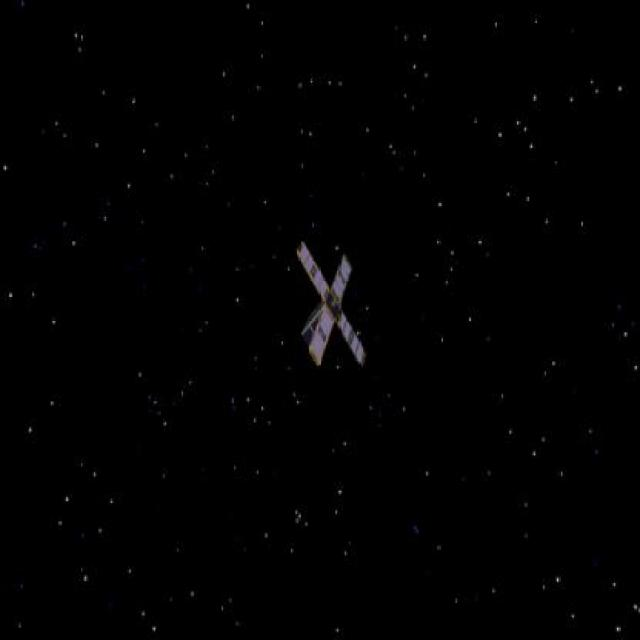medium_debris: (288, 236, 377, 377)
